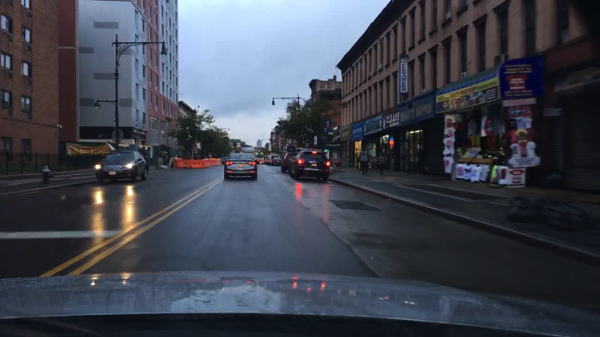car: (95, 149, 149, 184), (288, 148, 330, 182), (224, 152, 257, 181), (280, 152, 298, 173), (268, 154, 279, 165), (271, 157, 284, 166), (333, 159, 342, 167), (220, 156, 228, 165), (253, 156, 260, 165), (264, 158, 268, 163), (260, 160, 264, 164)
person: (359, 145, 371, 175), (376, 152, 388, 175), (162, 149, 167, 166)
traffic light: (323, 149, 329, 153), (255, 152, 258, 156)
traffic sign: (323, 128, 331, 133), (327, 131, 333, 135), (325, 119, 330, 123), (325, 124, 331, 127)
